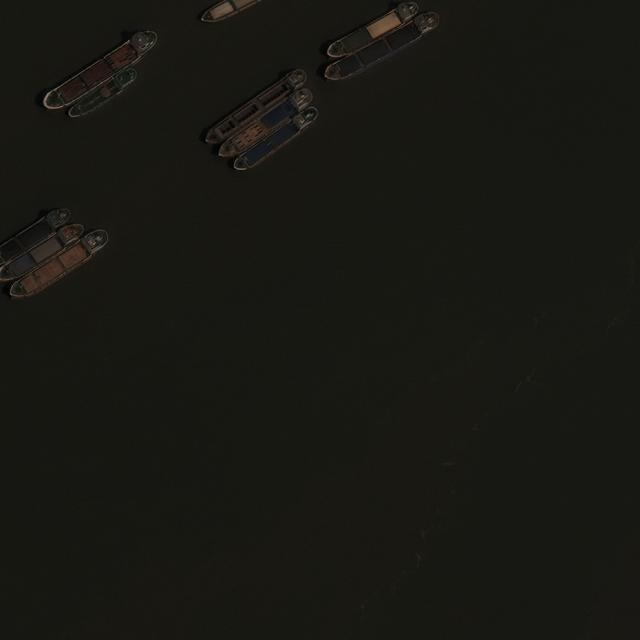Cargo: (39, 25, 162, 116), (321, 8, 443, 89), (201, 67, 310, 149), (6, 226, 113, 304), (215, 86, 317, 163), (230, 105, 322, 176), (325, 1, 420, 63), (1, 224, 83, 281), (66, 66, 140, 122), (1, 209, 71, 264), (201, 1, 262, 23)
